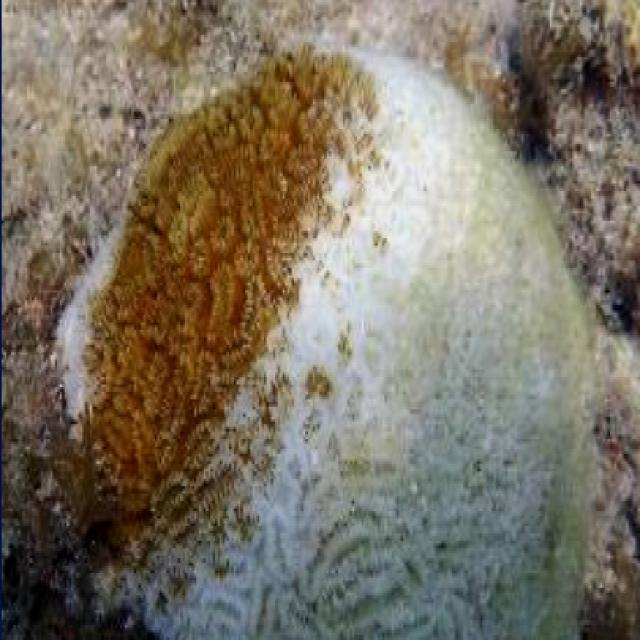Coral: (51, 44, 605, 640)
